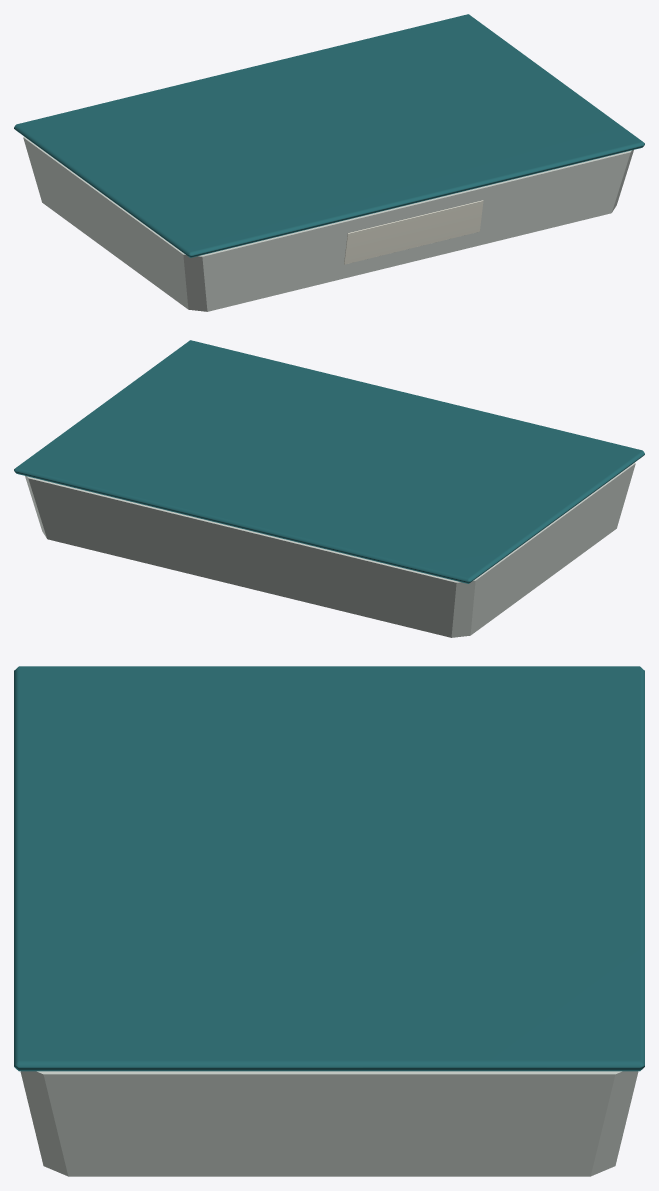
The model's file is VLAB_waste.fbx.
The picture shows the model from 3 angles, top to bottom: view 1: azimuth 30°, elevation 25°; view 2: azimuth 150°, elevation 25°; view 3: azimuth 270°, elevation 25°; orthographic projection. The views are drawn at different scales.
Parts seen in each view (by area): view 1: VLAB_waste_Cap_VIS, VLAB_waste_Body_VIS, VLAB_waste_Label_VIS; view 2: VLAB_waste_Cap_VIS, VLAB_waste_Body_VIS; view 3: VLAB_waste_Cap_VIS, VLAB_waste_Body_VIS.
Boxes of the visible parts, x1,y1,x2,y2 form: VLAB_waste_Cap_VIS: (14, 14, 644, 257); VLAB_waste_Body_VIS: (23, 136, 633, 311); VLAB_waste_Label_VIS: (344, 200, 483, 264); VLAB_waste_Cap_VIS: (14, 340, 644, 583); VLAB_waste_Body_VIS: (25, 462, 635, 637); VLAB_waste_Cap_VIS: (14, 666, 644, 1071); VLAB_waste_Body_VIS: (20, 1071, 638, 1176).
Size of the model in its own units: 0.303 by 0.045 by 0.203.
